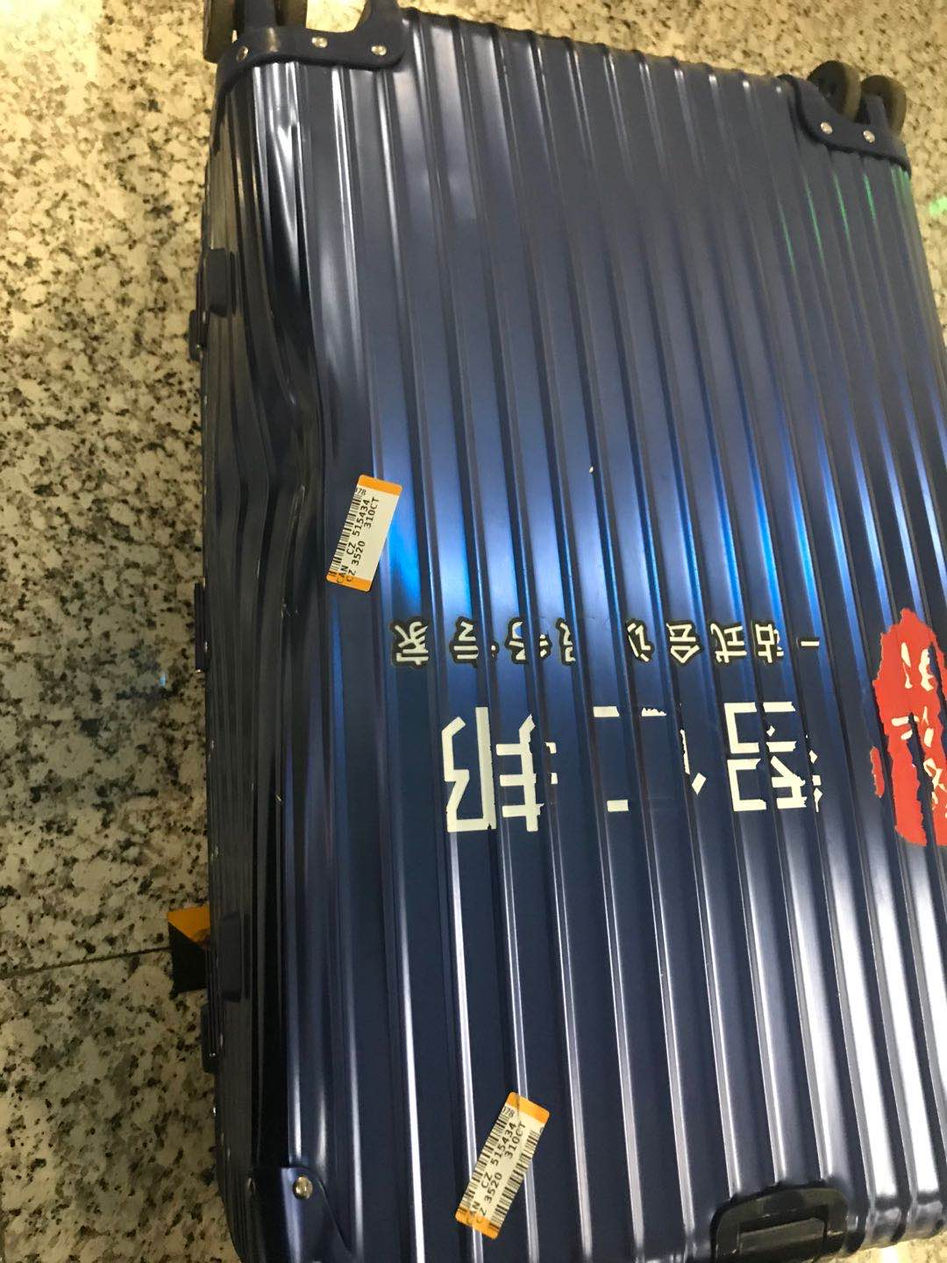rupture: (224, 302, 344, 631)
